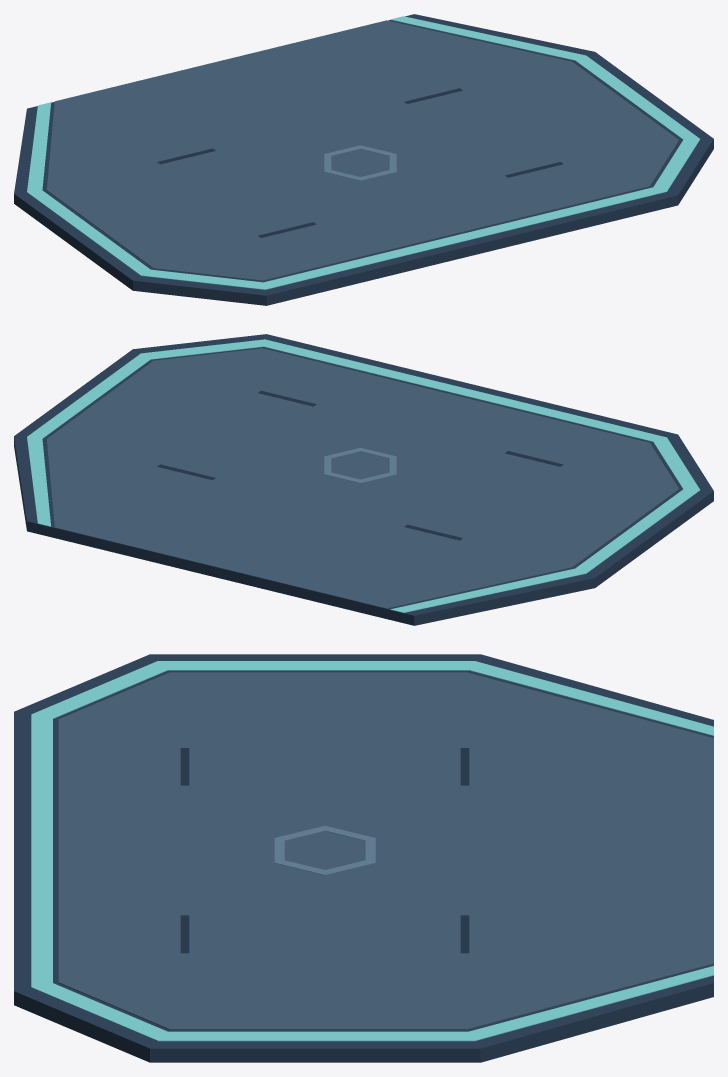
3 views of the same model, one above another, from view 1: azimuth 30°, elevation 25°; view 2: azimuth 150°, elevation 25°; view 3: azimuth 270°, elevation 25° (orthographic). The views are drawn at different scales.
Parts seen in each view (by area): view 1: campus_walk_landing; view 2: campus_walk_landing; view 3: campus_walk_landing.
Boxes of the visible parts, bbox=[...] form: campus_walk_landing: bbox=[14, 14, 713, 305]; campus_walk_landing: bbox=[14, 334, 713, 625]; campus_walk_landing: bbox=[14, 654, 713, 1062].
Bounding box in the file's own units: 4.8 × 0.086 × 3.6.
Materials: 1 (1 with a texture image).
